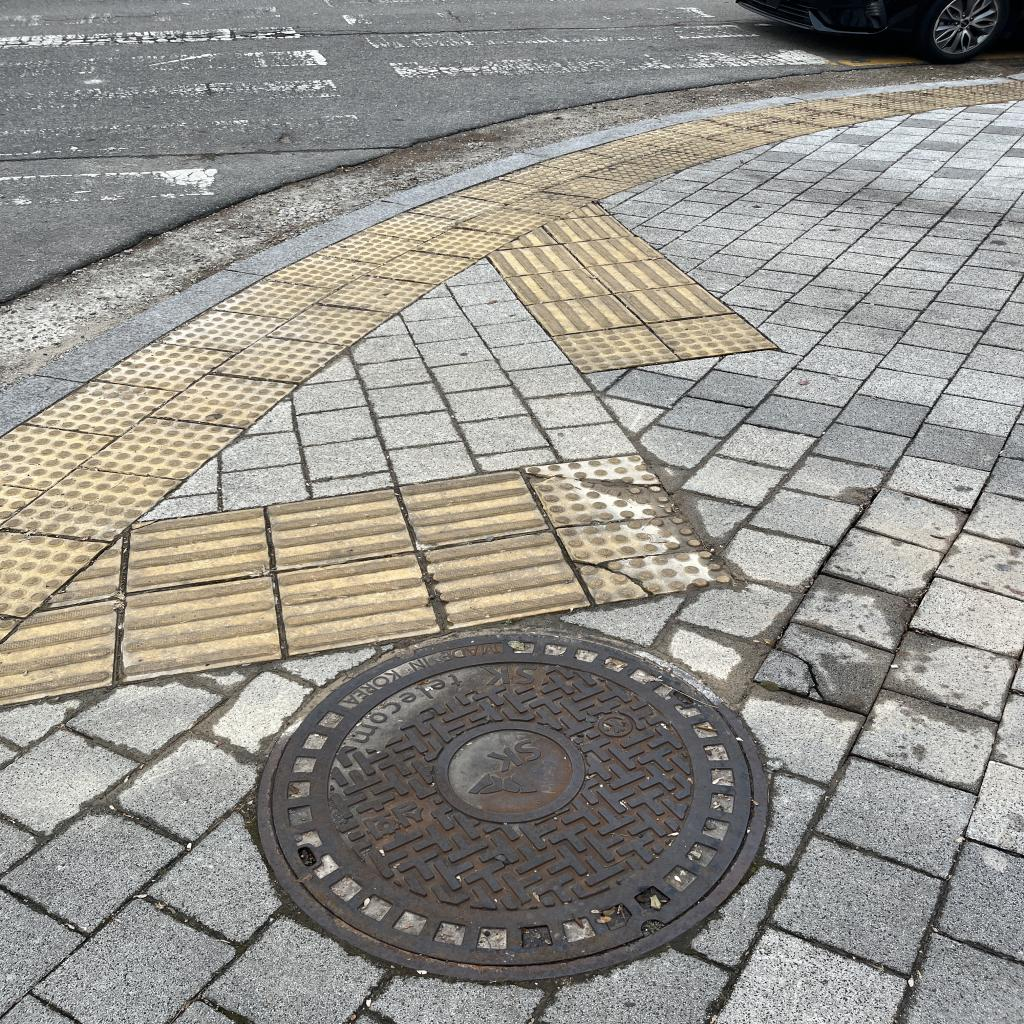Stop block broken: (556, 505, 733, 607), (525, 452, 680, 529)
Stop block normal: (0, 461, 181, 548), (82, 411, 243, 486), (27, 375, 177, 442), (150, 369, 297, 433), (553, 320, 679, 376), (648, 309, 777, 362)
Straight block normal: (112, 578, 282, 682), (424, 526, 589, 630), (275, 550, 439, 654), (401, 466, 548, 549), (268, 487, 413, 569), (527, 291, 642, 338), (615, 281, 733, 324), (505, 265, 611, 306), (589, 255, 696, 295)
